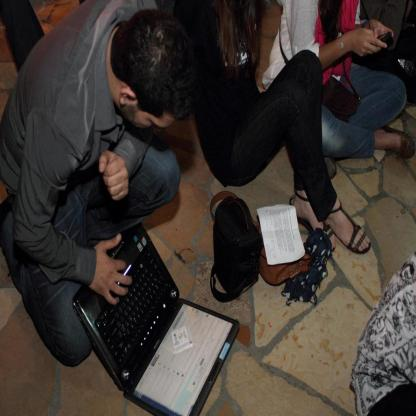board: (71, 220, 240, 416)
